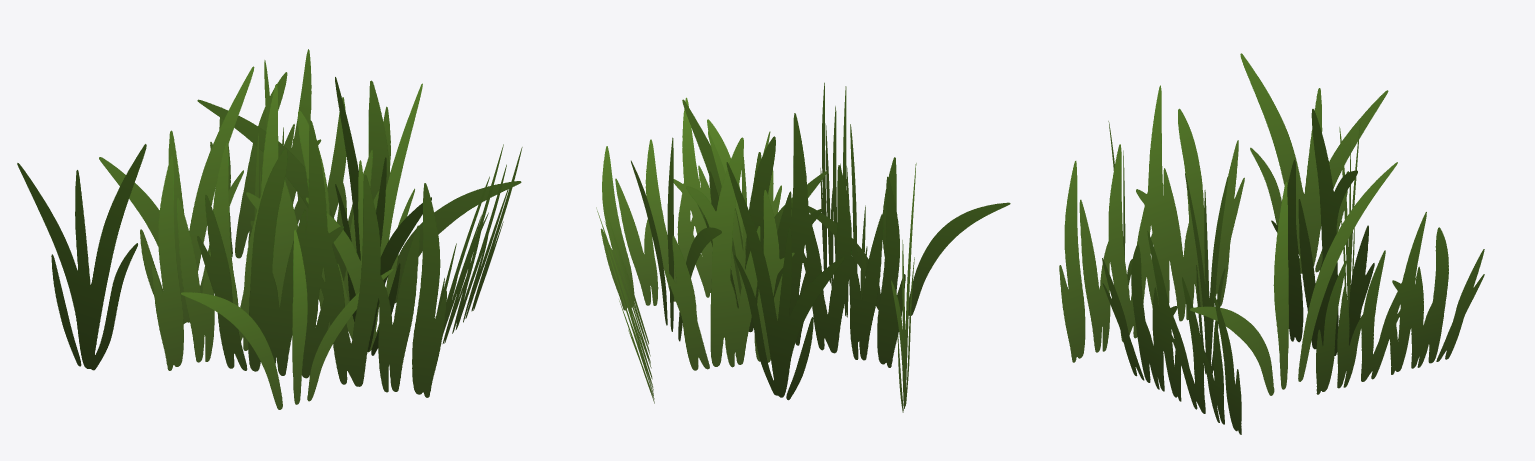
3 views of the same model, side by side, from view 1: azimuth 30°, elevation 25°; view 2: azimuth 150°, elevation 25°; view 3: azimuth 270°, elevation 25° (orthographic). The views are drawn at different scales.
Parts seen in each view (by area): view 1: pl-grass-lush-a; view 2: pl-grass-lush-a; view 3: pl-grass-lush-a.
Part boxes in pixels (x1,y1,x2,y2): pl-grass-lush-a: (17,49,522,409); pl-grass-lush-a: (596,82,1010,412); pl-grass-lush-a: (1059,53,1484,434).
Size of the model in its own units: 1.25 by 0.7839 by 1.23.
1 material, 1 textured.
